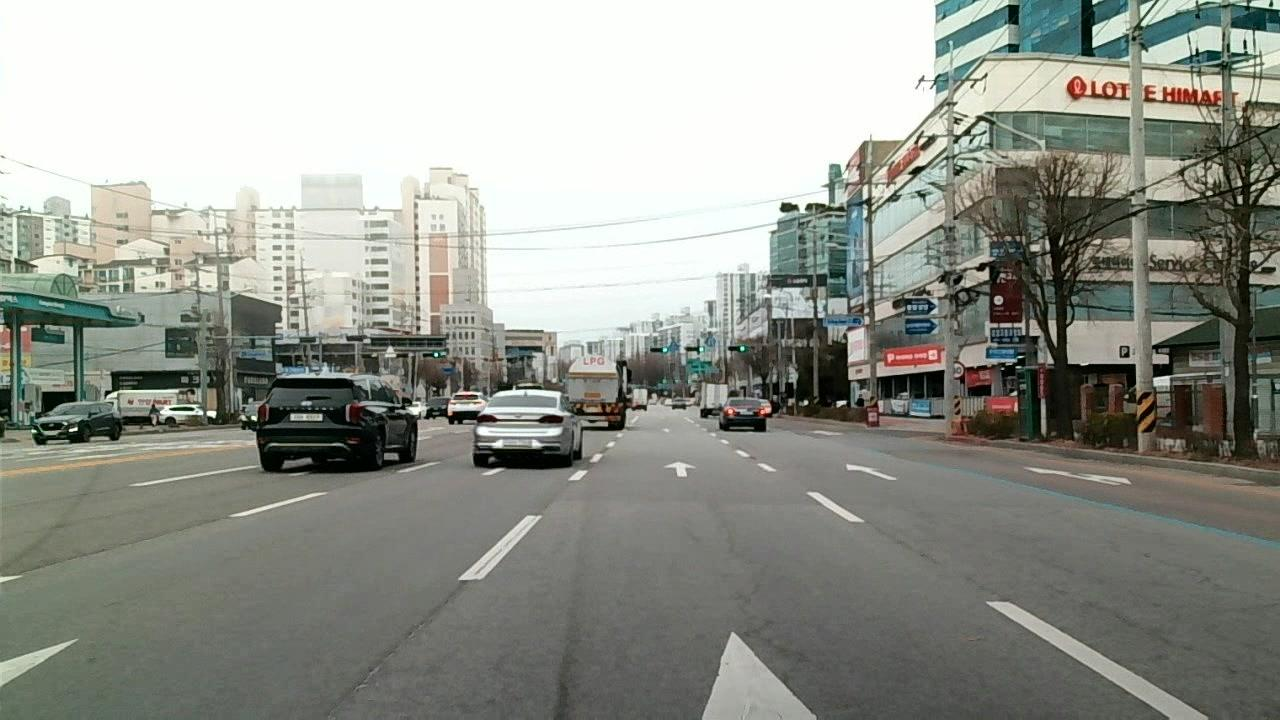banner: (338, 579, 468, 713), (868, 523, 994, 592), (731, 587, 802, 677), (24, 535, 143, 580), (144, 516, 228, 544)
